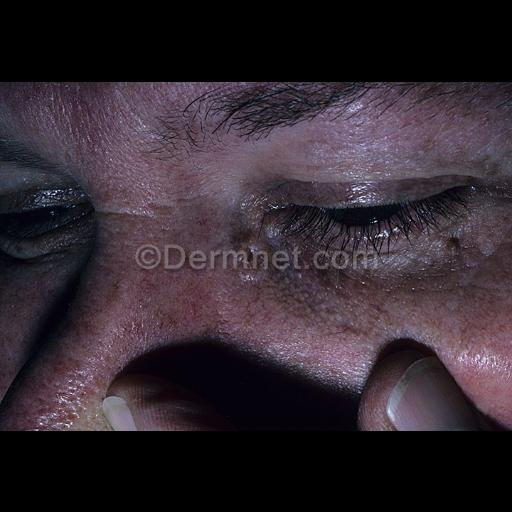Skin_Lesion: (27, 384, 85, 424)
